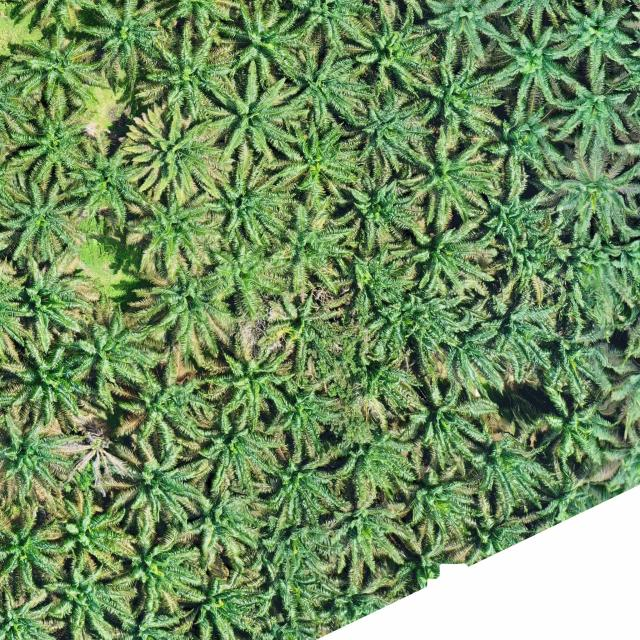Tree: (130, 9, 252, 121), (61, 286, 164, 418), (112, 342, 221, 464), (128, 249, 243, 362), (200, 56, 310, 162), (100, 435, 212, 537), (397, 372, 501, 477), (189, 327, 295, 430), (191, 156, 294, 262), (0, 15, 111, 113), (393, 132, 501, 232), (537, 137, 640, 239), (122, 105, 220, 208), (265, 195, 363, 297), (0, 413, 92, 519), (534, 376, 632, 475), (260, 120, 364, 212), (406, 44, 506, 139), (246, 437, 352, 526), (325, 493, 423, 588), (321, 427, 426, 515), (485, 17, 580, 114), (47, 481, 141, 579), (281, 44, 378, 138), (0, 333, 88, 436), (0, 171, 82, 279), (78, 2, 174, 94), (466, 422, 564, 512), (489, 91, 568, 200), (402, 215, 504, 299), (59, 139, 153, 230), (353, 0, 444, 93), (0, 99, 95, 188), (395, 459, 486, 549), (467, 293, 567, 374), (17, 254, 96, 356), (123, 190, 211, 280), (542, 223, 628, 313), (257, 286, 346, 372), (392, 281, 484, 364), (538, 321, 614, 421), (555, 64, 634, 158), (42, 560, 134, 640), (340, 164, 422, 251), (264, 371, 349, 452), (559, 2, 639, 88), (489, 222, 570, 306), (175, 567, 268, 640), (208, 240, 290, 322), (339, 238, 418, 316), (254, 522, 344, 582), (478, 184, 551, 243)
